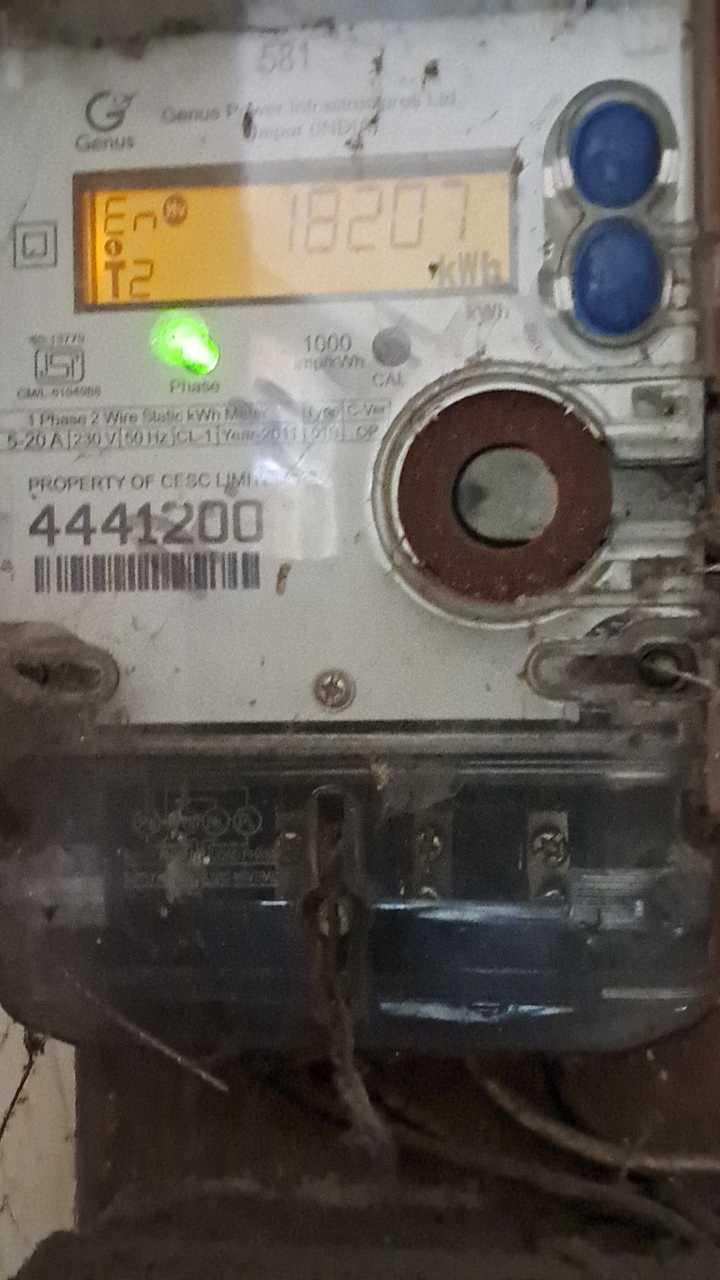meter_readings: (266, 174, 489, 252)
serial_number: (26, 500, 288, 548)
